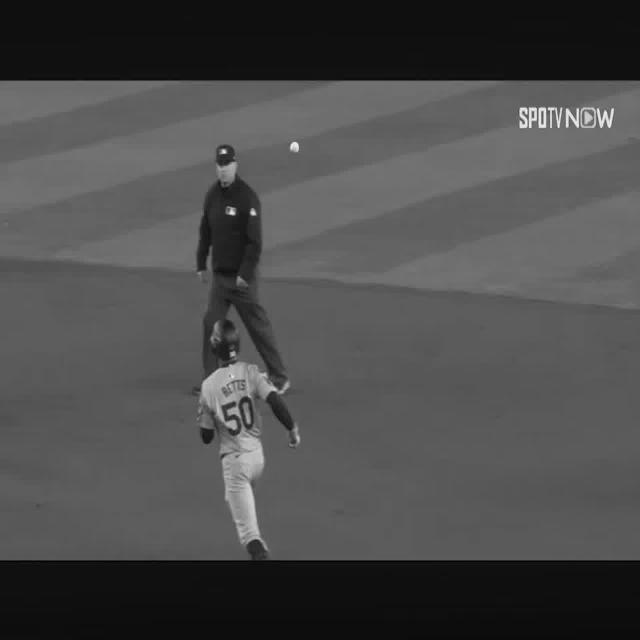baseball: (289, 140, 300, 153)
